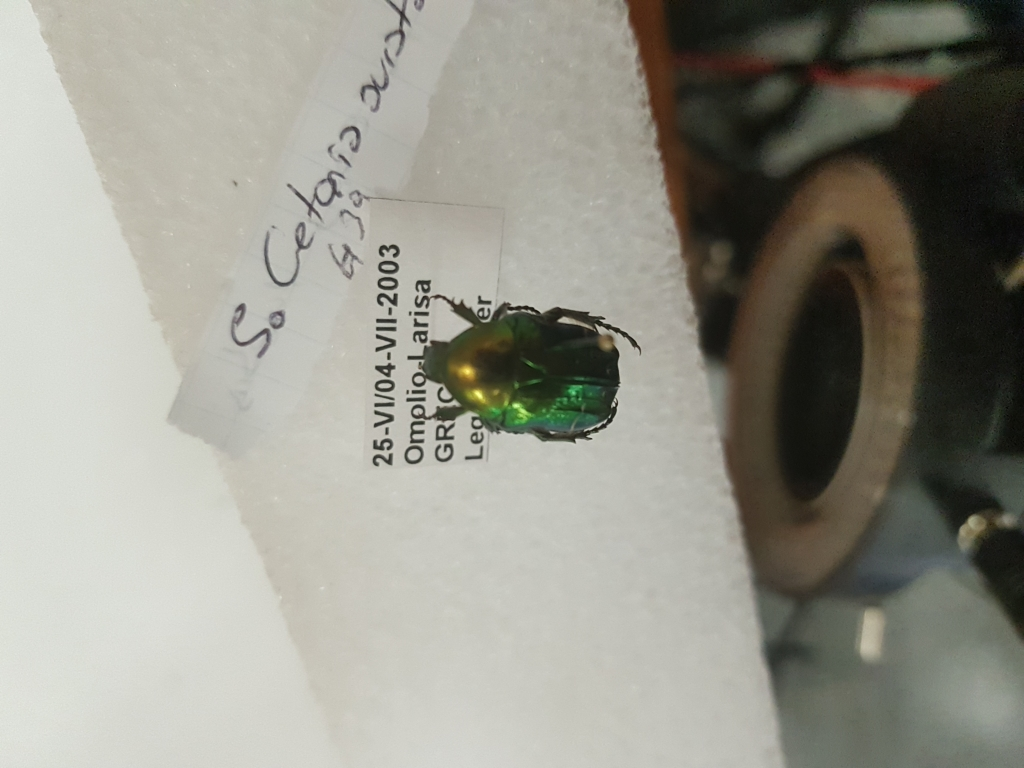Cetonia_aurata: (406, 283, 647, 465)
